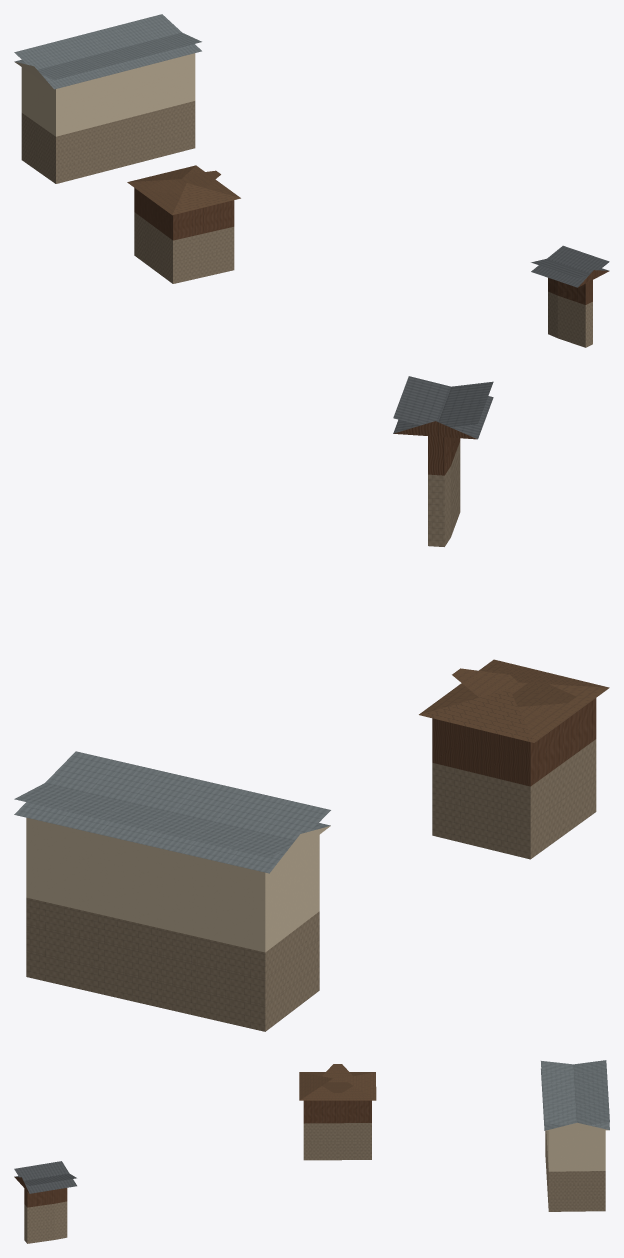
The model's file is bld_c32_46_244.gltf.
3 views of the same model, one above another, from view 1: azimuth 30°, elevation 25°; view 2: azimuth 150°, elevation 25°; view 3: azimuth 270°, elevation 25° (orthographic). The views are drawn at different scales.
Visible parts, largest first — view 1: bld_c32_46_244; view 2: bld_c32_46_244; view 3: bld_c32_46_244.
Part boxes in pixels (left/top/right/bottom): bld_c32_46_244: left=14, top=14, right=609, bottom=347; bld_c32_46_244: left=14, top=376, right=609, bottom=1031; bld_c32_46_244: left=14, top=1060, right=609, bottom=1243.
Bounding box in the file's own units: 31.4 × 11.5 × 68.42.
8 materials, 8 textured.
